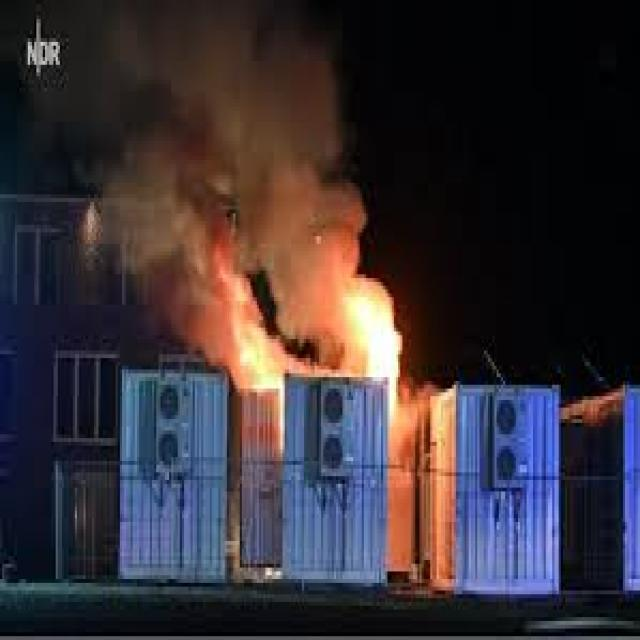fire: (167, 202, 396, 510)
